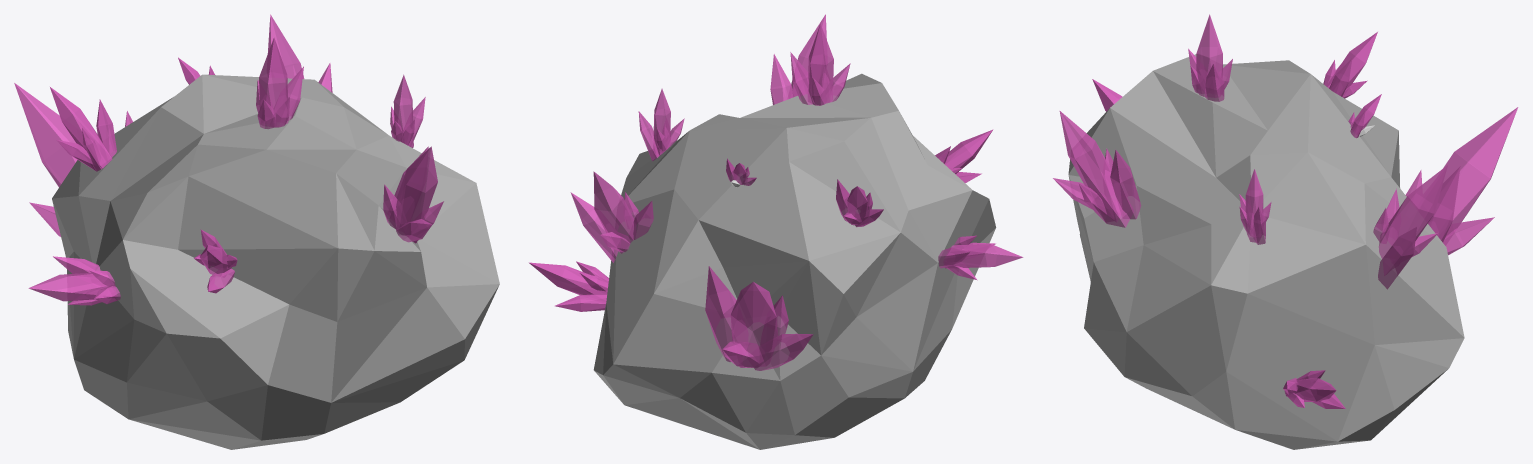
Rendered from MagicstoneOre.fbx.
The picture shows the model from 3 angles, left to right: view 1: azimuth 30°, elevation 25°; view 2: azimuth 150°, elevation 25°; view 3: azimuth 270°, elevation 25°; orthographic projection. The views are drawn at different scales.
Visible parts, largest first — view 1: MagicstoneOre; view 2: MagicstoneOre; view 3: MagicstoneOre.
Boxes of the visible parts, <box> form: MagicstoneOre: <box>14,14,499,449</box>; MagicstoneOre: <box>529,14,1023,449</box>; MagicstoneOre: <box>1053,14,1518,449</box>.
Size of the model in its own units: 476 by 392 by 420.
